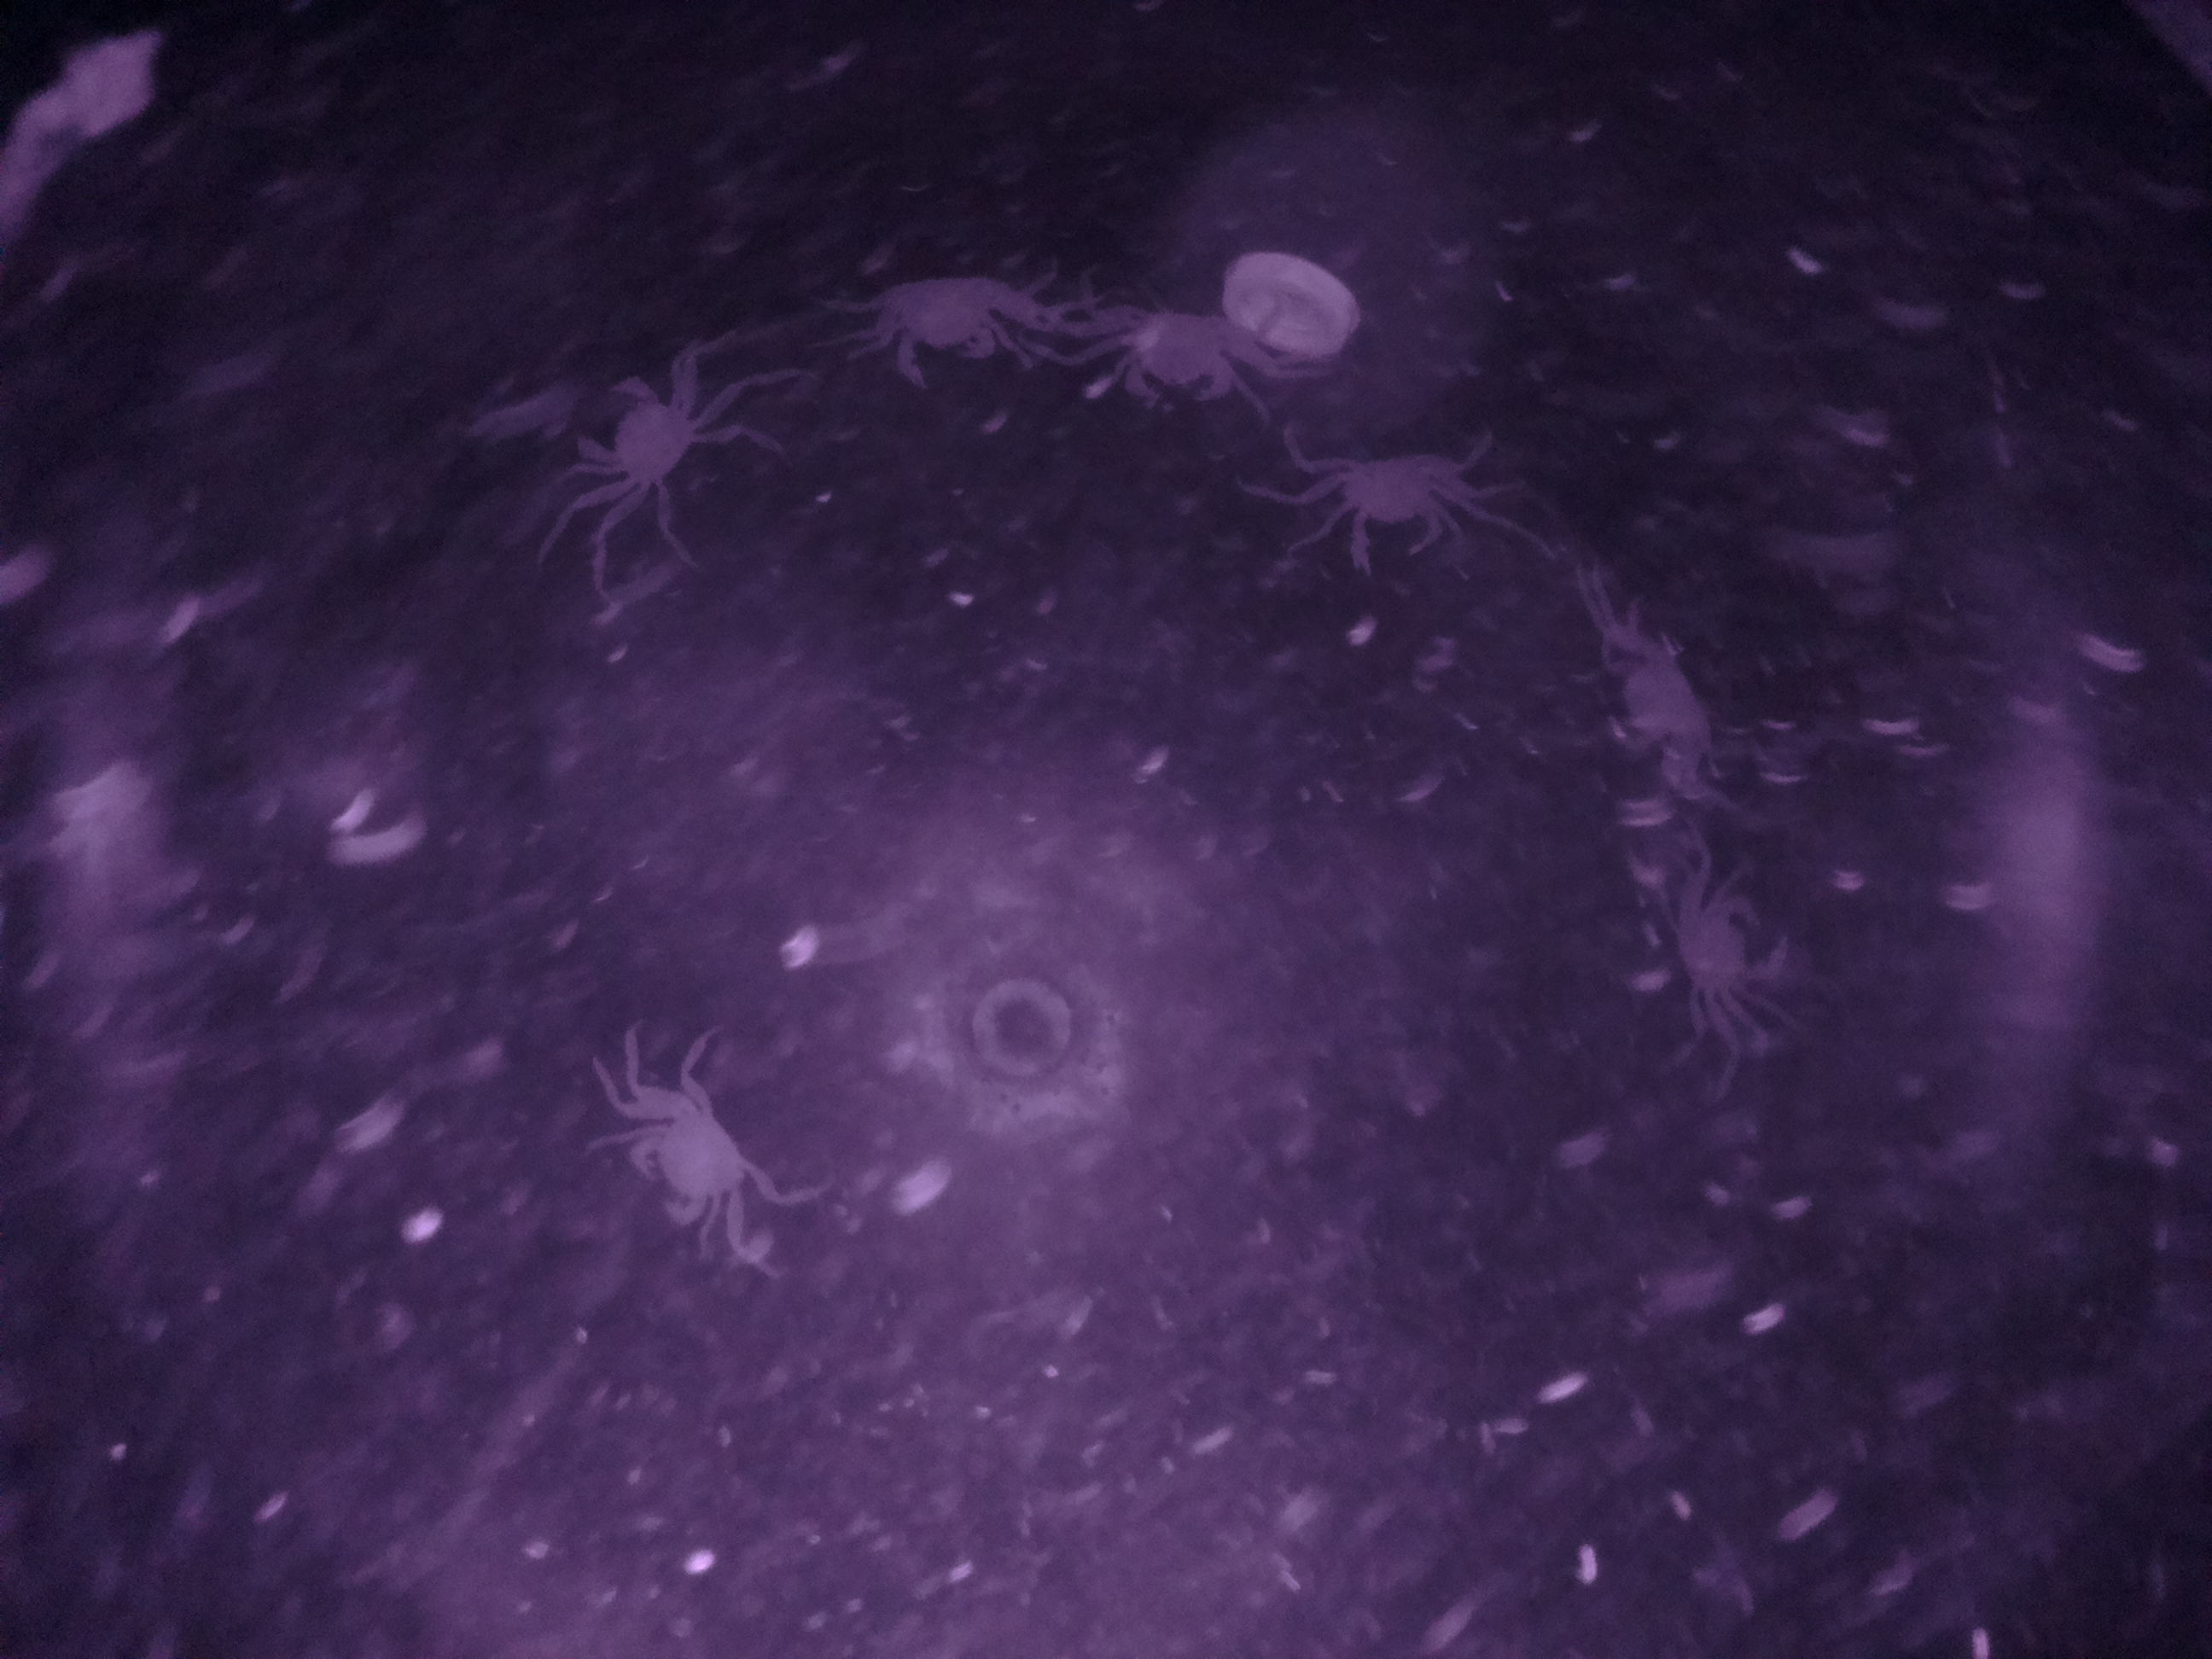Crab: (1261, 404, 1519, 584), (603, 1032, 787, 1267), (563, 335, 744, 549), (1035, 277, 1303, 415), (833, 247, 1047, 397)
